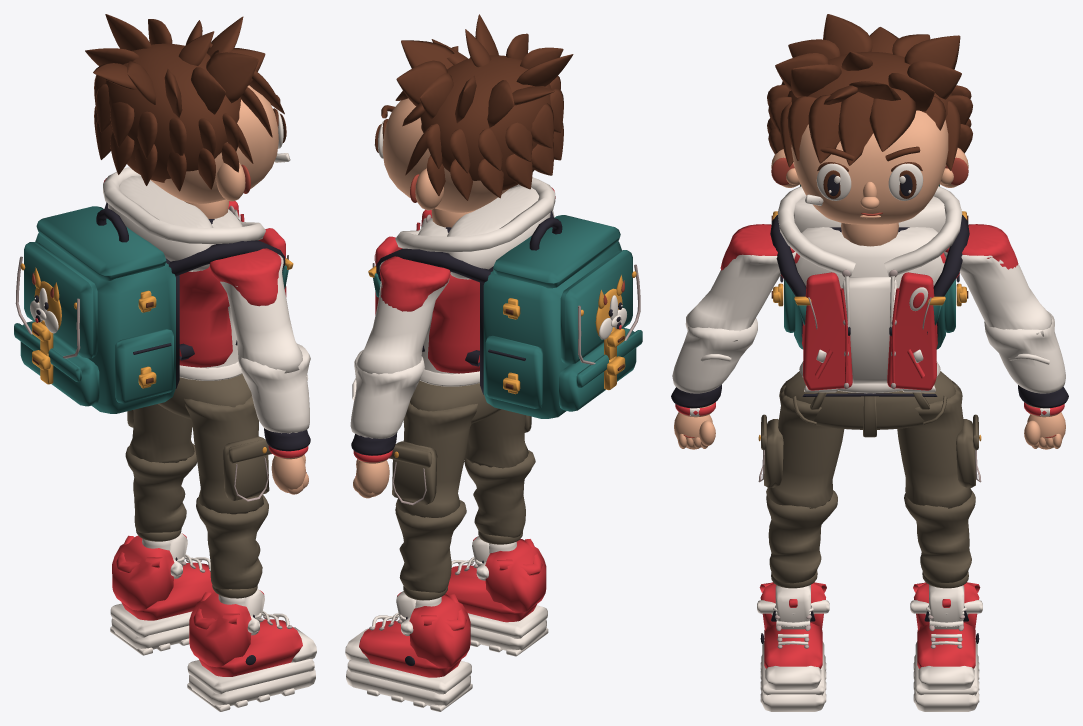
File: char.survivor-male.glb
The picture shows the model from 3 angles, left to right: view 1: azimuth 30°, elevation 25°; view 2: azimuth 150°, elevation 25°; view 3: azimuth 270°, elevation 25°; orthographic projection.
Visible parts, largest first — view 1: head, backpackSocket_geometry, torso, footR, footL, legR, armR, shinR, foreArmR, shinL, legL, hip (+1 smaller); view 2: head, backpackSocket_geometry, torso, footL, footR, legL, armL, foreArmL, shinL, shinR, legR, hip (+1 smaller); view 3: head, torso, footL, footR, legL, legR, armR, armL, hip, foreArmR, foreArmL, shinR (+4 smaller).
Boxes of the visible parts, left/top/right/bottom form: head: left=85, top=14, right=290, bottom=203; backpackSocket_geometry: left=14, top=206, right=179, bottom=413; torso: left=103, top=167, right=293, bottom=380; footR: left=187, top=589, right=316, bottom=711; footL: left=110, top=533, right=214, bottom=655; legR: left=184, top=395, right=271, bottom=514; armR: left=209, top=248, right=302, bottom=373; shinR: left=196, top=494, right=268, bottom=618; foreArmR: left=239, top=343, right=310, bottom=451; shinL: left=125, top=443, right=196, bottom=560; legL: left=127, top=404, right=194, bottom=463; hip: left=158, top=374, right=251, bottom=419; head: left=374, top=14, right=573, bottom=212; backpackSocket_geometry: left=480, top=215, right=642, bottom=418; torso: left=368, top=177, right=555, bottom=386; footL: left=345, top=591, right=472, bottom=711; footR: left=445, top=536, right=548, bottom=656; legL: left=389, top=402, right=477, bottom=517; armL: left=355, top=256, right=450, bottom=374; foreArmL: left=350, top=350, right=424, bottom=455; shinL: left=395, top=500, right=466, bottom=619; shinR: left=464, top=450, right=535, bottom=563; legR: left=465, top=409, right=531, bottom=468; hip: left=410, top=380, right=501, bottom=423; head: left=767, top=14, right=972, bottom=224; torso: left=770, top=186, right=969, bottom=393; footL: left=910, top=582, right=982, bottom=711; footR: left=757, top=582, right=829, bottom=711; legL: left=897, top=380, right=981, bottom=508; legR: left=758, top=379, right=844, bottom=508; armR: left=685, top=224, right=796, bottom=341; armL: left=944, top=224, right=1051, bottom=336; hip: left=784, top=371, right=955, bottom=437; foreArmR: left=671, top=318, right=757, bottom=408; foreArmL: left=984, top=311, right=1068, bottom=408; shinR: left=766, top=490, right=837, bottom=621.
Bounding box in the file's own units: 0.6978 × 1.8 × 1.02.
